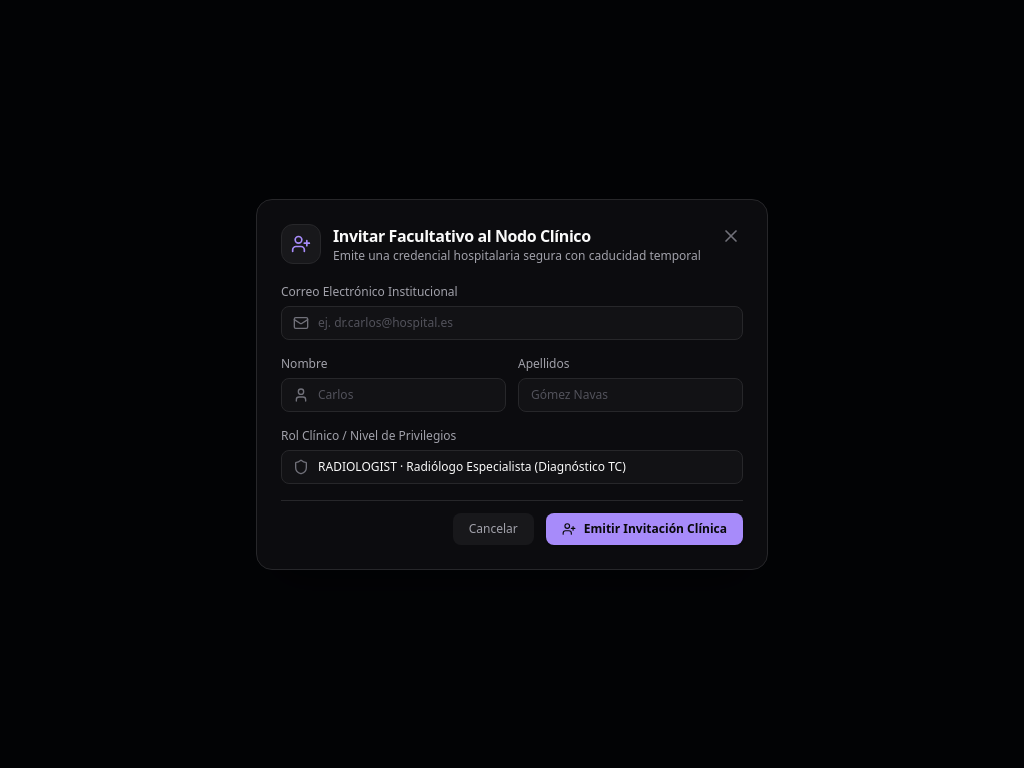
Test: InviteClinicianDialog Component › displays error message if clinician email is already registered
This screenshot has width=1024, height=768.
Step 1. Type "already.invited@hospital.org" into the field labelled "Correo Electrónico Institucional" → (512, 322), box [281,306,743,340]
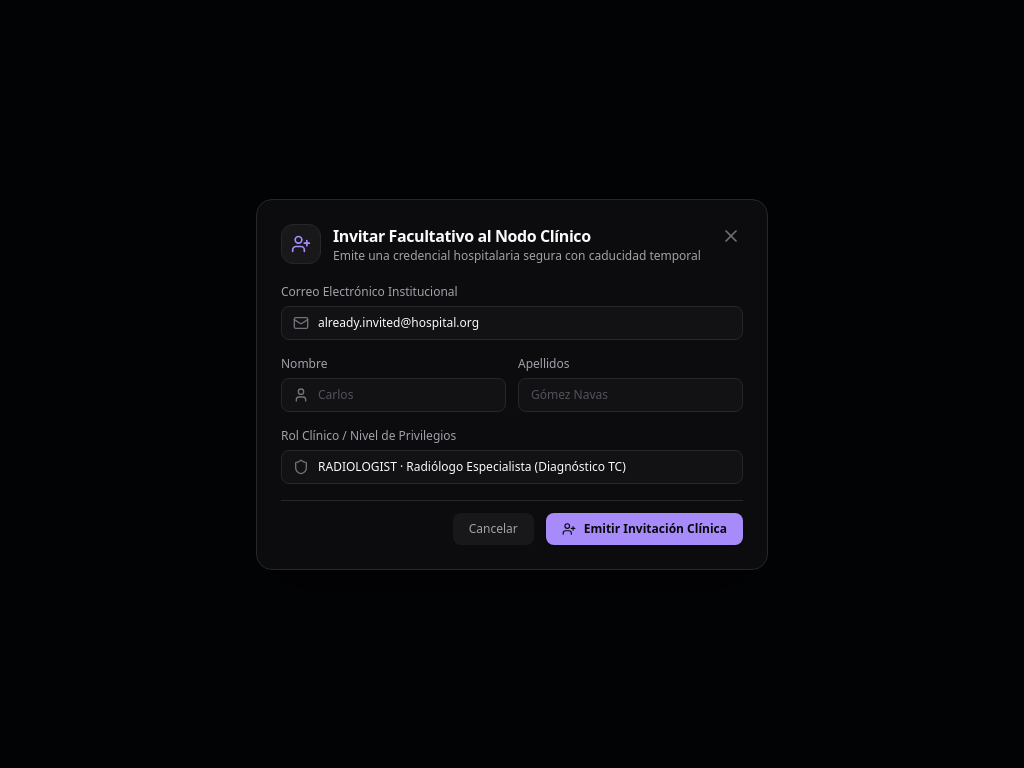
Step 2. Type "Laura" into the field labelled "Nombre" → (394, 394), box [281,378,506,412]
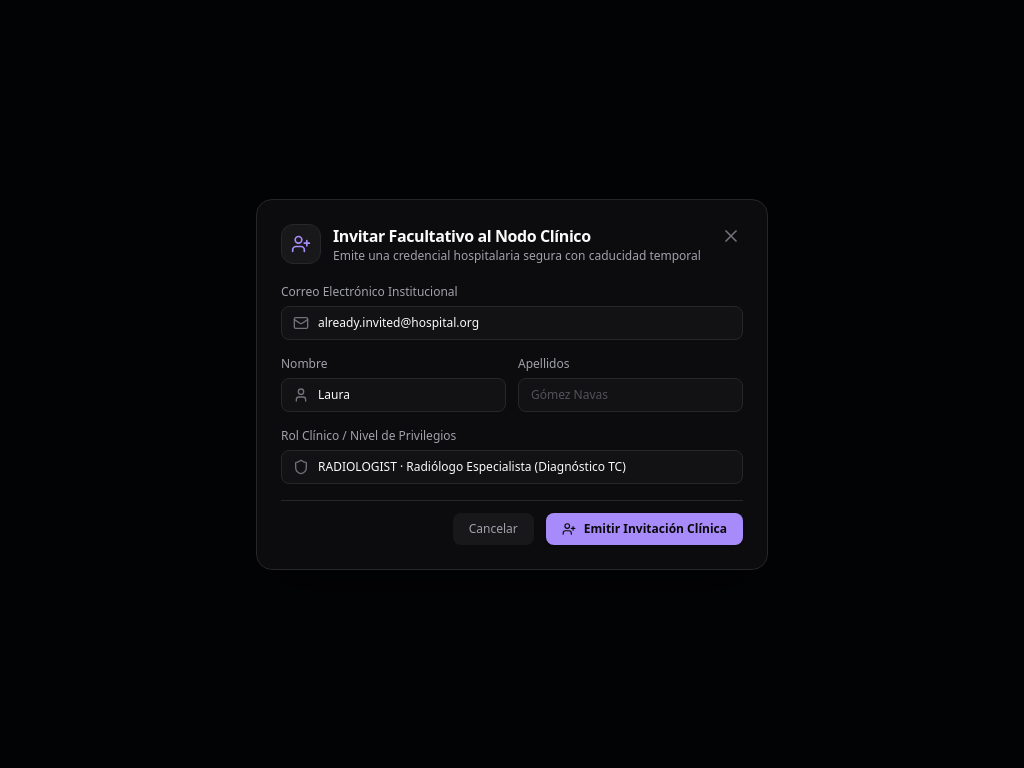
Step 3. Type "Méndez" into the field labelled "Apellidos" → (630, 394), box [518,378,743,412]
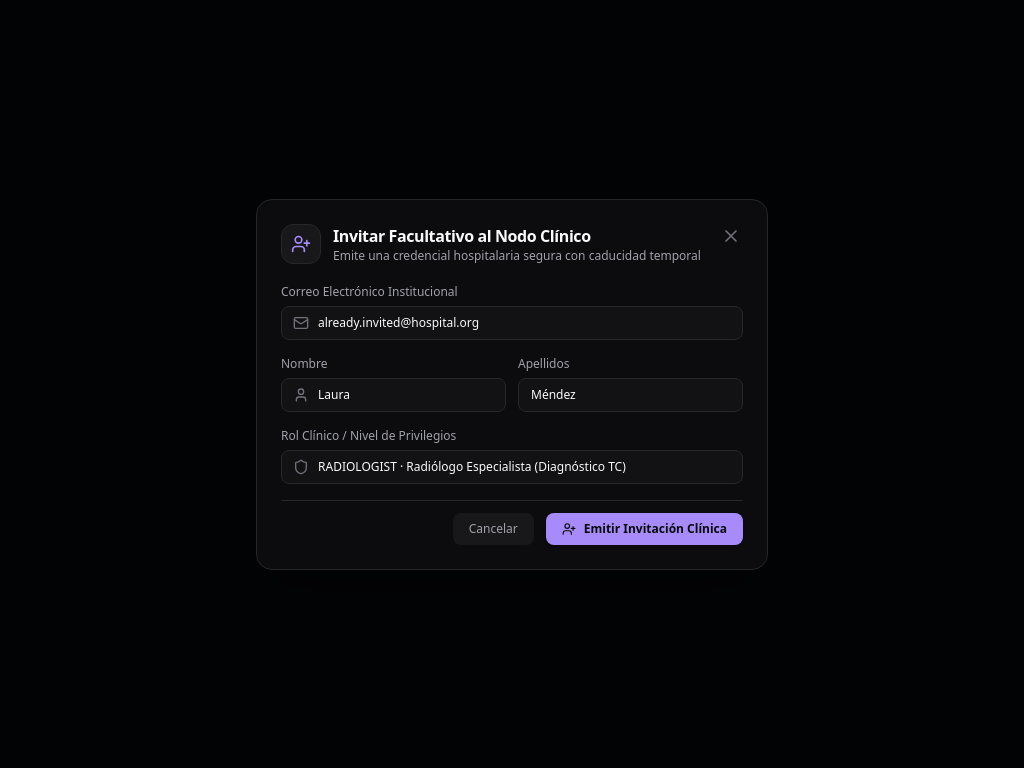
Step 4. Click the button "Emitir Invitación Clínica" → (644, 528), box [546,512,743,544]
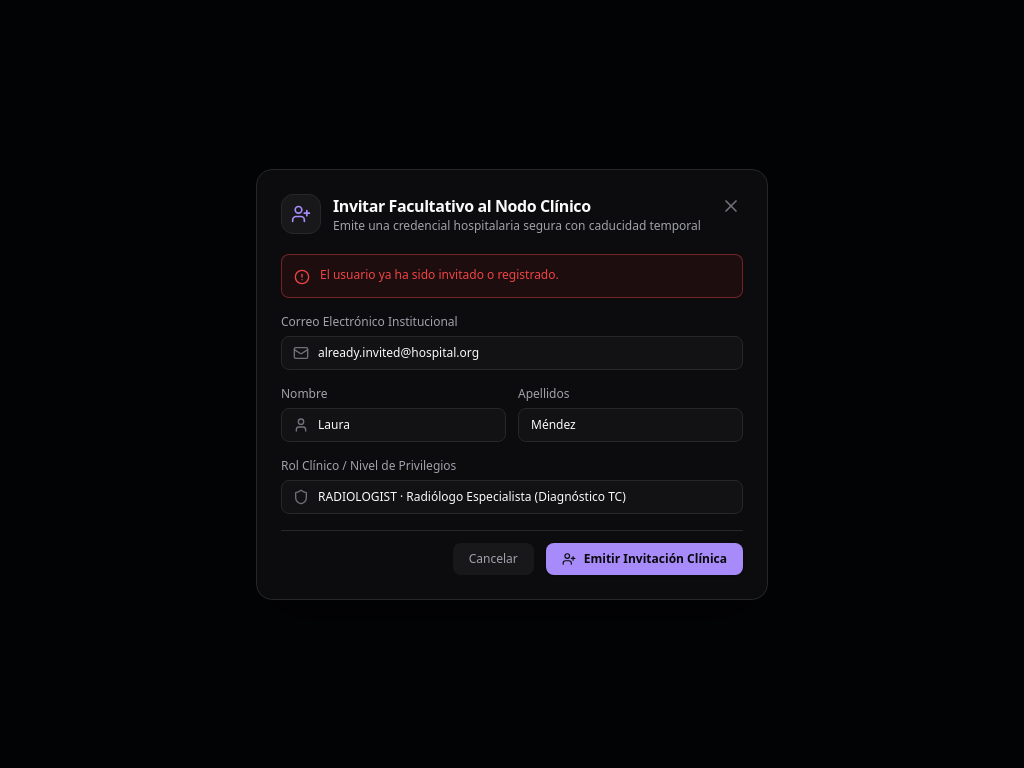
Check: the text "El usuario ya ha sido invitado o registrado." is shown, box [320,266,559,283]
